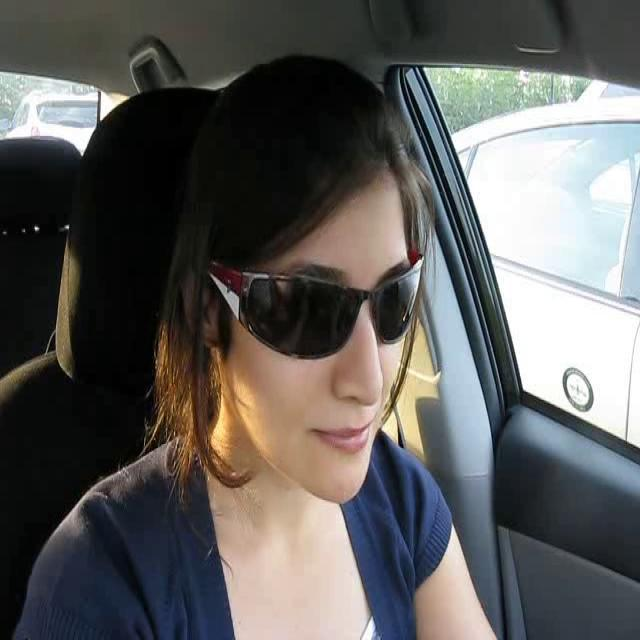close: (307, 419, 372, 457)
